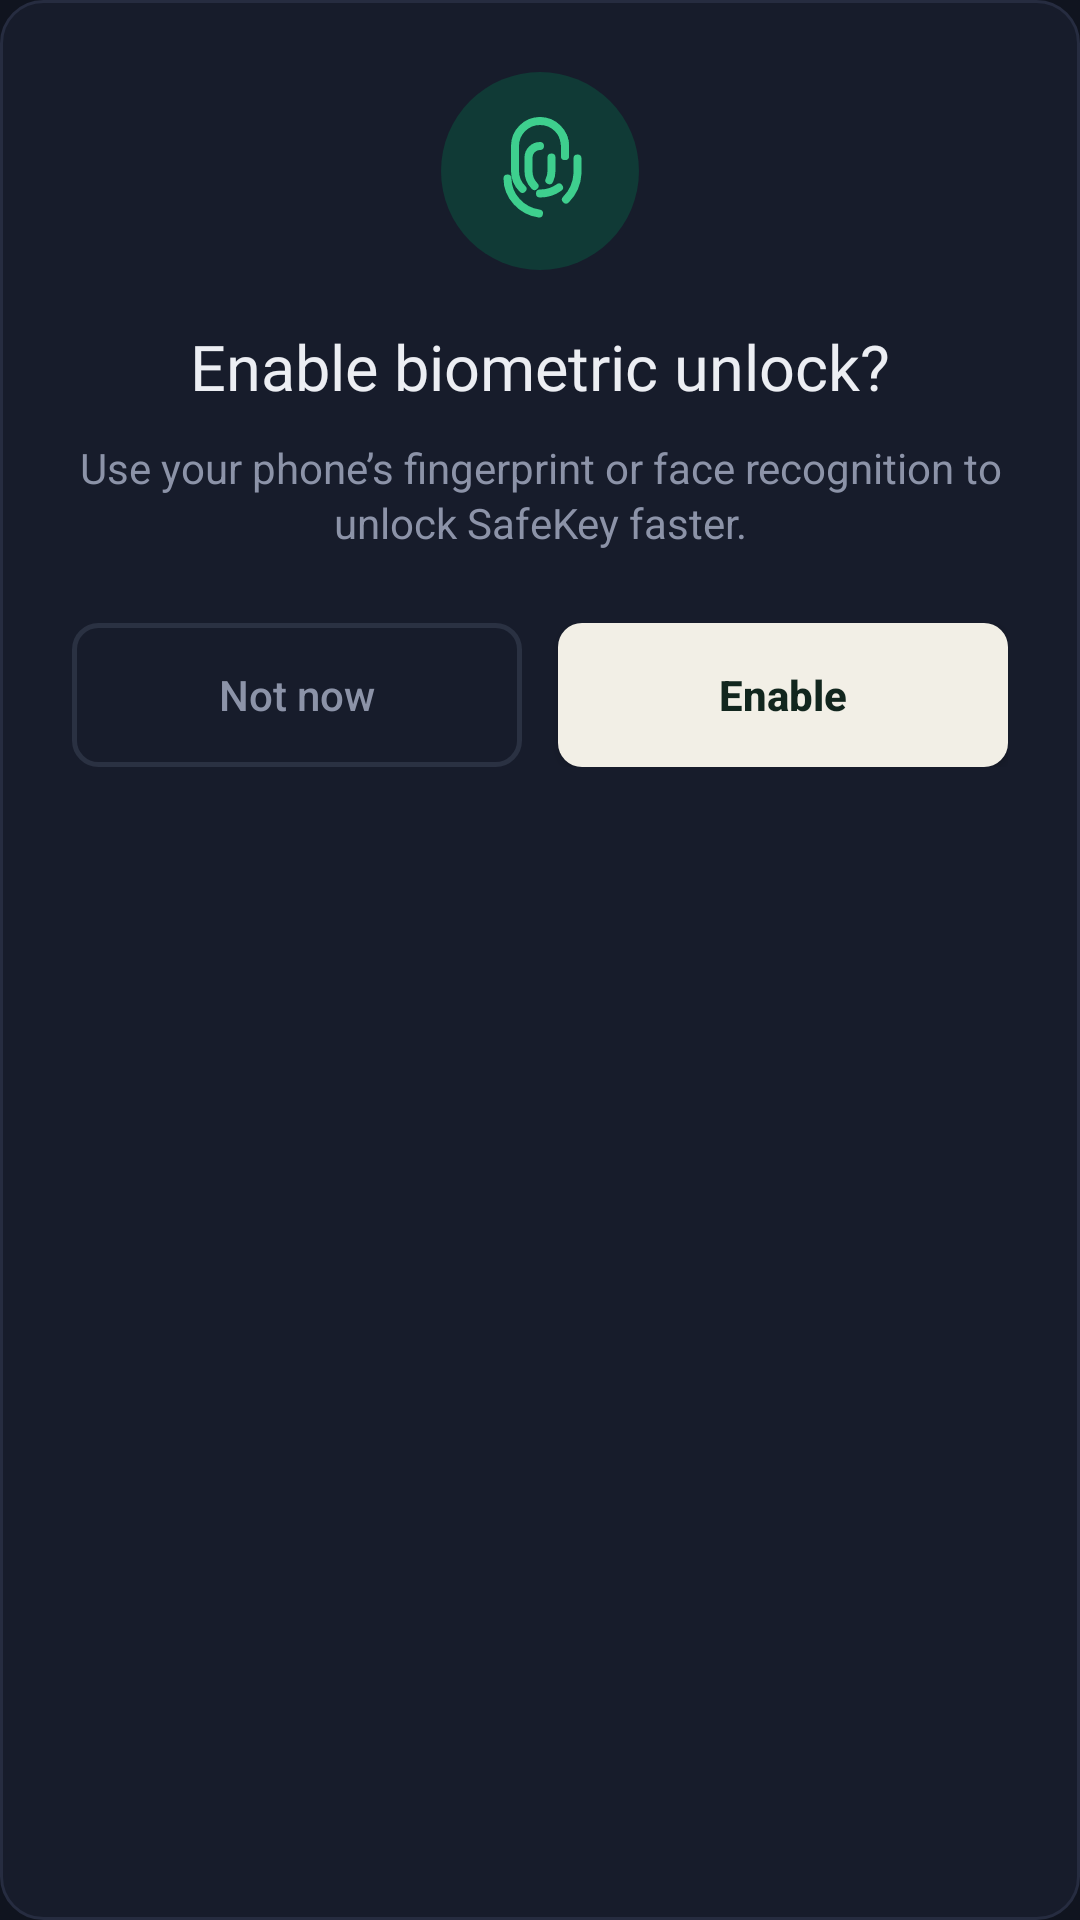

Screen size 1080×1920. Icon name, then its box in pixels as box(x1, y1, x2, y2):
fingerprint: box(503, 117, 582, 218)
